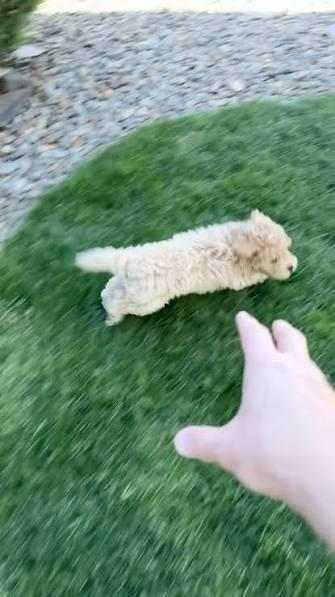non-dog: (173, 311, 335, 554)
puppy-dog: (70, 205, 299, 327)
